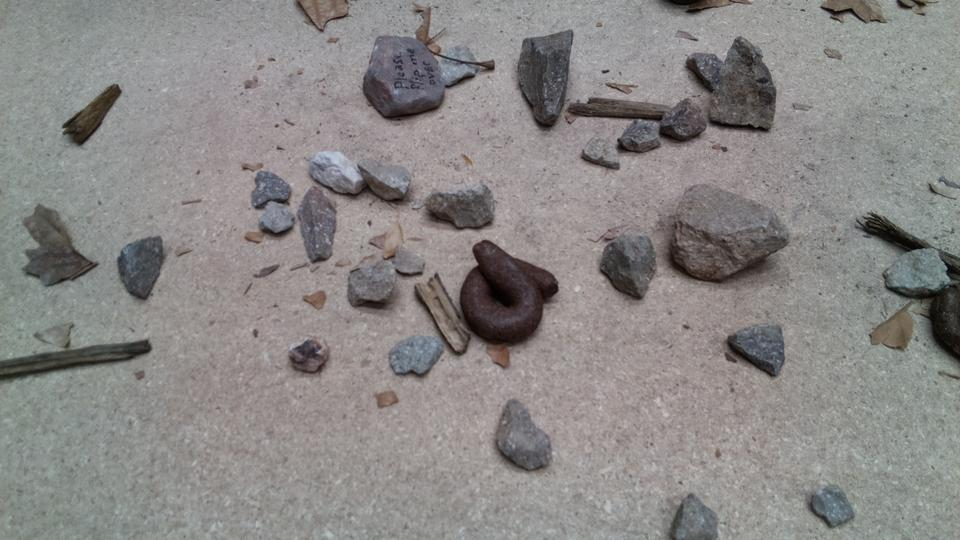poop: (458, 237, 560, 343), (929, 279, 960, 364)
